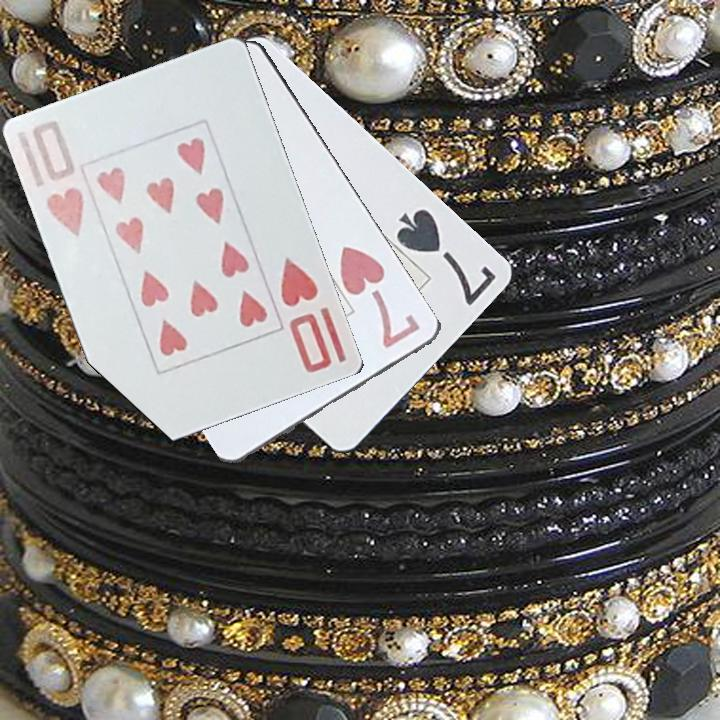7h: (336, 242, 424, 352)
7s: (393, 205, 500, 309)
Th: (14, 116, 88, 240), (277, 253, 335, 377)
